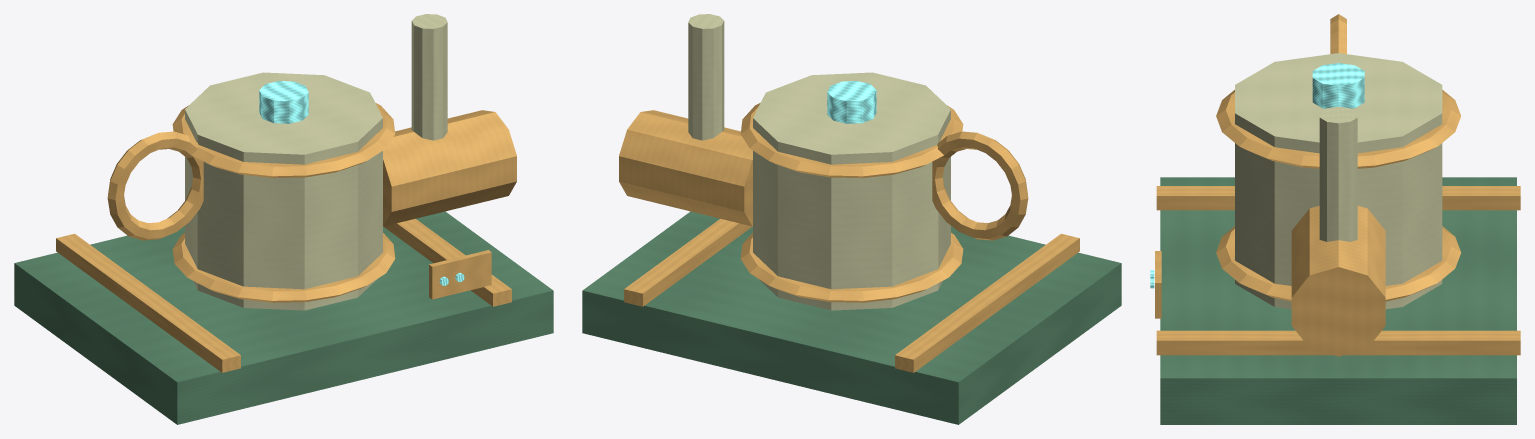
Rendered from atlas100-s005-a02.glb.
3 views of the same model, side by side, from view 1: azimuth 30°, elevation 25°; view 2: azimuth 150°, elevation 25°; view 3: azimuth 270°, elevation 25° (orthographic). The views are drawn at different scales.
Parts seen in each view (by area): view 1: atlas100-s005-a02:part-000, atlas100-s005-a02:part-003, atlas100-s005-a02:part-007, atlas100-s005-a02:part-001, atlas100-s005-a02:part-009, atlas100-s005-a02:part-008, atlas100-s005-a02:part-004, atlas100-s005-a02:part-005, atlas100-s005-a02:part-002, atlas100-s005-a02:part-010, atlas100-s005-a02:part-006; view 2: atlas100-s005-a02:part-000, atlas100-s005-a02:part-003, atlas100-s005-a02:part-007, atlas100-s005-a02:part-001, atlas100-s005-a02:part-009, atlas100-s005-a02:part-008, atlas100-s005-a02:part-004, atlas100-s005-a02:part-005, atlas100-s005-a02:part-002, atlas100-s005-a02:part-006; view 3: atlas100-s005-a02:part-000, atlas100-s005-a02:part-003, atlas100-s005-a02:part-007, atlas100-s005-a02:part-002, atlas100-s005-a02:part-008, atlas100-s005-a02:part-005, atlas100-s005-a02:part-001, atlas100-s005-a02:part-004, atlas100-s005-a02:part-006, atlas100-s005-a02:part-009, atlas100-s005-a02:part-010.
Boxes of the visible parts, bbox=[...] form: atlas100-s005-a02:part-000: bbox=[14, 211, 553, 424]; atlas100-s005-a02:part-003: bbox=[185, 72, 382, 310]; atlas100-s005-a02:part-007: bbox=[383, 110, 516, 226]; atlas100-s005-a02:part-001: bbox=[56, 233, 240, 372]; atlas100-s005-a02:part-009: bbox=[107, 131, 203, 240]; atlas100-s005-a02:part-008: bbox=[411, 14, 447, 140]; atlas100-s005-a02:part-004: bbox=[172, 232, 395, 302]; atlas100-s005-a02:part-005: bbox=[172, 103, 395, 178]; atlas100-s005-a02:part-002: bbox=[383, 218, 511, 306]; atlas100-s005-a02:part-010: bbox=[429, 250, 491, 299]; atlas100-s005-a02:part-006: bbox=[259, 81, 308, 123]; atlas100-s005-a02:part-000: bbox=[582, 211, 1121, 424]; atlas100-s005-a02:part-003: bbox=[753, 72, 950, 310]; atlas100-s005-a02:part-007: bbox=[619, 110, 752, 226]; atlas100-s005-a02:part-001: bbox=[895, 233, 1079, 372]; atlas100-s005-a02:part-009: bbox=[932, 131, 1028, 240]; atlas100-s005-a02:part-008: bbox=[688, 14, 724, 140]; atlas100-s005-a02:part-004: bbox=[740, 232, 963, 302]; atlas100-s005-a02:part-005: bbox=[740, 103, 963, 178]; atlas100-s005-a02:part-002: bbox=[624, 218, 752, 306]; atlas100-s005-a02:part-006: bbox=[827, 81, 876, 123]; atlas100-s005-a02:part-000: bbox=[1160, 177, 1516, 424]; atlas100-s005-a02:part-003: bbox=[1235, 53, 1442, 309]; atlas100-s005-a02:part-007: bbox=[1291, 205, 1385, 356]; atlas100-s005-a02:part-002: bbox=[1156, 330, 1520, 355]; atlas100-s005-a02:part-008: bbox=[1319, 106, 1357, 241]; atlas100-s005-a02:part-005: bbox=[1216, 90, 1460, 168]; atlas100-s005-a02:part-001: bbox=[1156, 186, 1520, 210]; atlas100-s005-a02:part-004: bbox=[1216, 226, 1461, 301]; atlas100-s005-a02:part-006: bbox=[1312, 63, 1364, 108]; atlas100-s005-a02:part-009: bbox=[1330, 14, 1346, 53]; atlas100-s005-a02:part-010: bbox=[1155, 251, 1161, 318].
Size of the model in its own units: 2.55 by 1.6 by 1.87.
4 materials, 4 textured.
